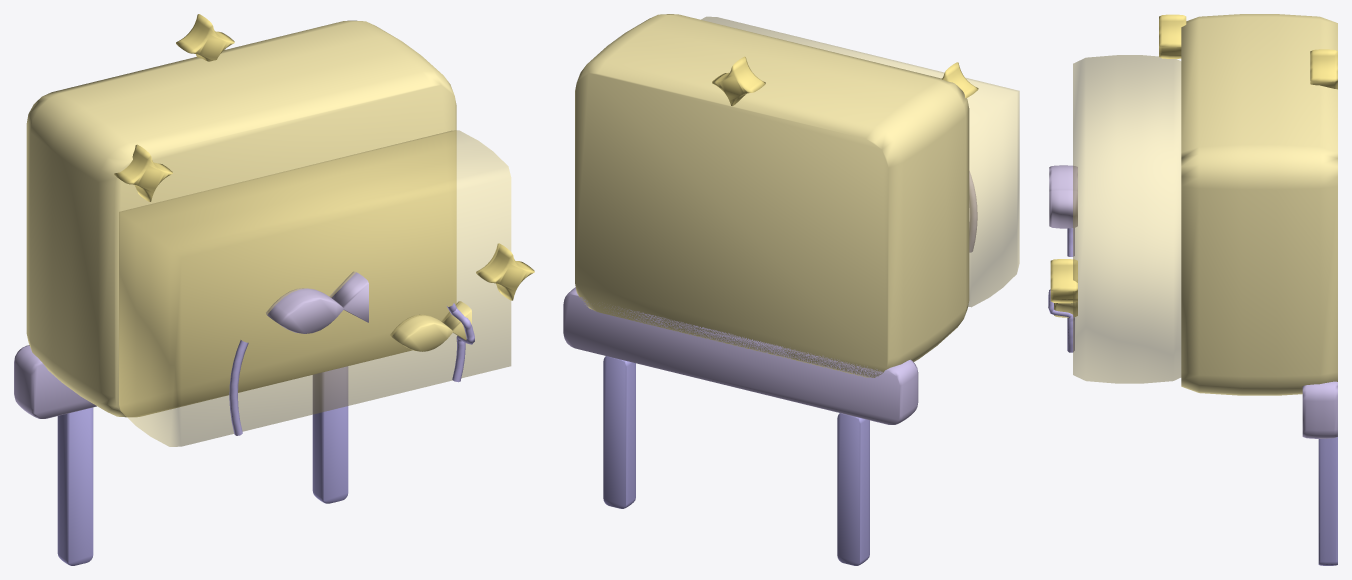
Rendered from decor_3_star.glb.
The picture shows the model from 3 angles, left to right: view 1: azimuth 30°, elevation 25°; view 2: azimuth 150°, elevation 25°; view 3: azimuth 270°, elevation 25°; orthographic projection. The views are drawn at different scales.
Visible parts, largest first — view 1: decor_3_star; view 2: decor_3_star; view 3: decor_3_star.
Part boxes in pixels (x1=…): decor_3_star: x1=14, y1=14, x2=534, y2=565; decor_3_star: x1=563, y1=14, x2=1019, y2=565; decor_3_star: x1=1048, y1=14, x2=1337, y2=565.
Bounding box in the file's own units: 11.93 × 15.8 × 9.06.
